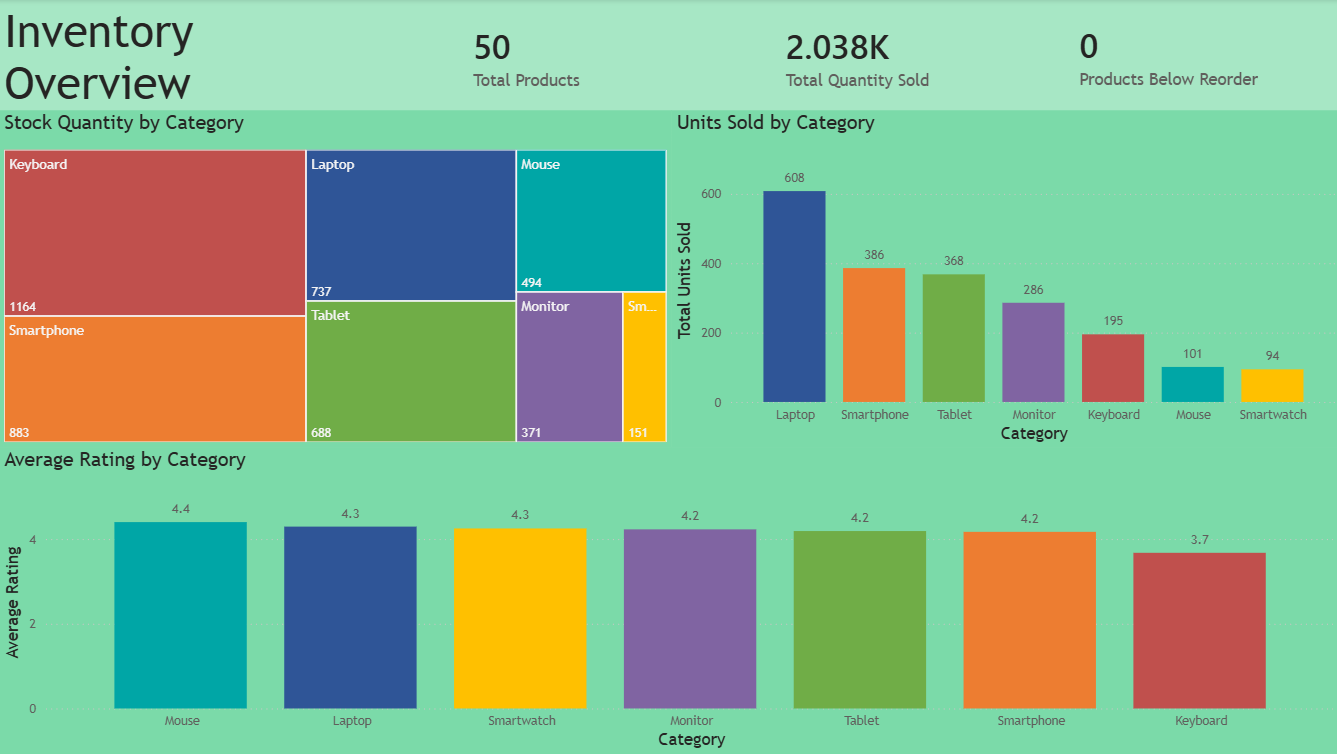

The page's visual inventory and layout, read from the dashboard file:
{"tool":"powerbi","page":{"name":"Inventory Overview","canvas":[1280,720],"ordinal":5},"visuals":[{"type":"cardVisual","fields":{"Data":["_DAX Measures.Products Below Reorder"]},"box":[1000,0,279.8,106.2],"z":0},{"type":"cardVisual","fields":{"Data":["_DAX Measures.Total Products"]},"box":[422.6,1.2,298.5,106.2],"z":1000},{"type":"cardVisual","fields":{"Data":["_DAX Measures.Total Quantity Sold"]},"box":[720.2,1.2,279.8,106.2],"z":2000},{"type":"treemap","title":" Stock Quantity by Category","fields":{"Group":["Categories.Category_Name"],"Values":["Sum(Products.Stock_Quantity)"]},"box":[0,106.5,925.8,321.2],"z":3000},{"type":"columnChart","title":"Units Sold by Category","fields":{"Category":["Categories.Category_Name"],"Y":["Sum(Products.Units_Sold)"]},"box":[0,427.7,1279.7,292],"z":4000},{"type":"columnChart","title":"Average Rating by Category","fields":{"Category":["Categories.Category_Name"],"Y":["Avg(Products.Rating)"]},"box":[925.8,106.5,353.8,321.2],"z":5000},{"type":"textbox","box":[0,1.2,422.6,120.2],"z":6000}]}

Visuals, with their boxes in screenshot pixels (x1, y1, x2, y2), scaled from the page's 1280x720 canvas onto the 1337x754 screenshot:
cardVisual - _DAX Measures.Products Below Reorder: <bbox>1045, 0, 1336, 111</bbox>
cardVisual - _DAX Measures.Total Products: <bbox>441, 1, 753, 112</bbox>
cardVisual - _DAX Measures.Total Quantity Sold: <bbox>752, 1, 1045, 112</bbox>
" Stock Quantity by Category" treemap: <bbox>0, 112, 967, 448</bbox>
"Units Sold by Category" columnChart: <bbox>0, 448, 1336, 753</bbox>
"Average Rating by Category" columnChart: <bbox>967, 112, 1336, 448</bbox>
textbox: <bbox>0, 1, 441, 127</bbox>
